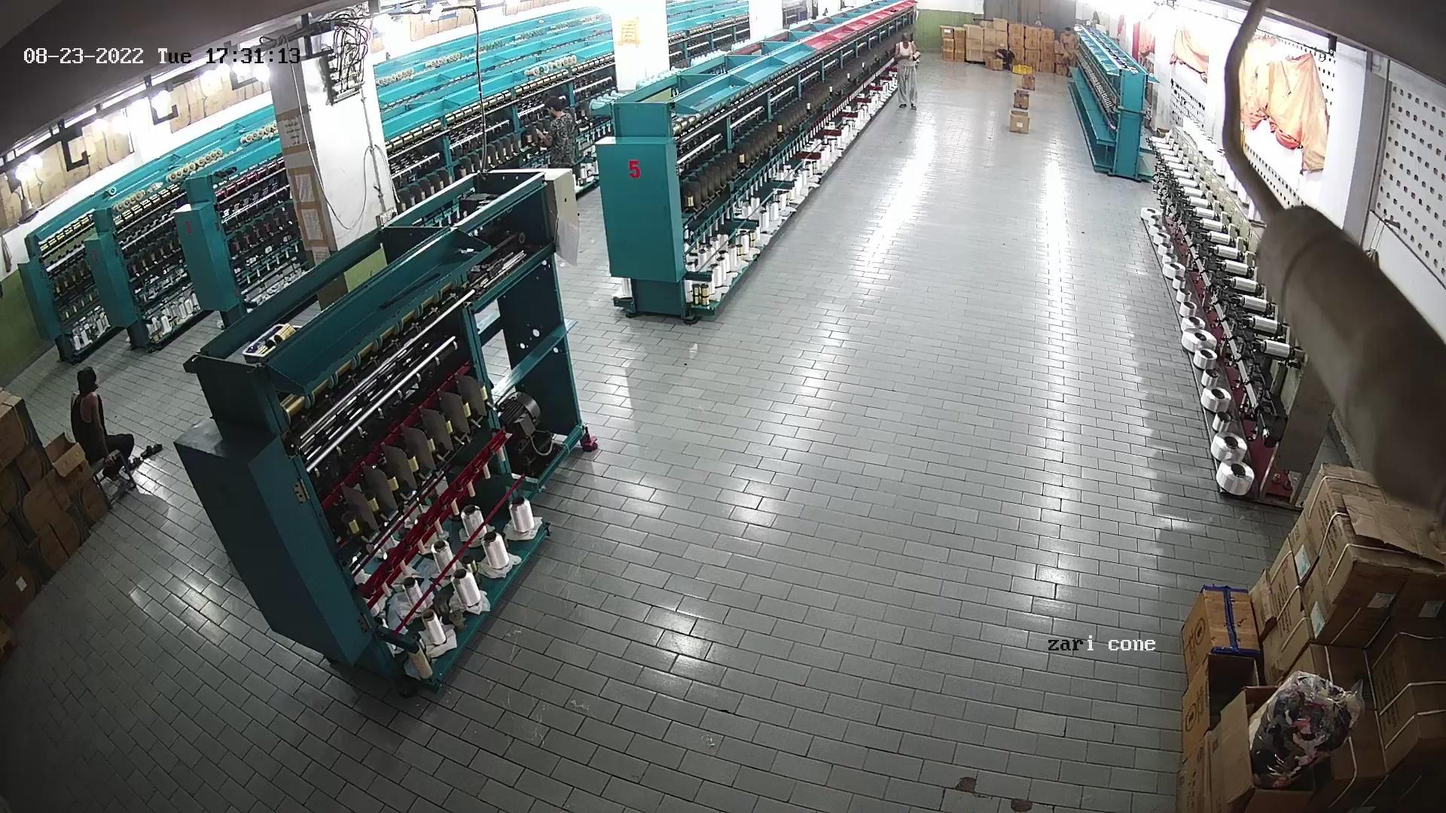person: (68, 365, 123, 487), (893, 33, 923, 115)
